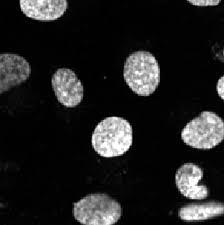cell: (182, 111, 224, 149), (94, 118, 132, 158), (72, 195, 122, 225), (174, 160, 210, 200), (52, 69, 85, 107), (1, 55, 31, 93), (20, 0, 66, 21), (179, 201, 224, 221), (186, 0, 223, 7), (216, 75, 224, 100)
